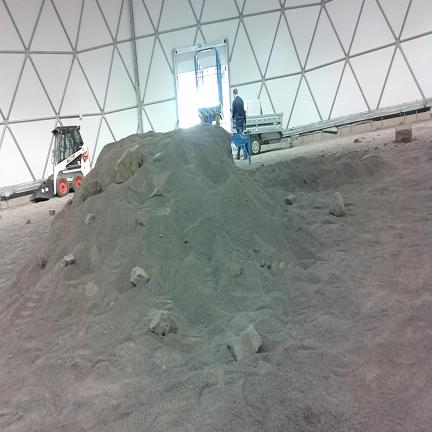Rock: (228, 325, 261, 361), (115, 146, 141, 184), (150, 310, 178, 336), (81, 180, 102, 202), (329, 192, 344, 216), (131, 267, 149, 286), (396, 125, 412, 143), (38, 251, 48, 270), (304, 171, 318, 184), (230, 263, 241, 278), (137, 212, 147, 226), (285, 194, 295, 206), (150, 188, 162, 198), (64, 254, 74, 265), (85, 214, 94, 225), (153, 153, 164, 162), (260, 259, 266, 268), (253, 246, 260, 253), (65, 199, 72, 206), (279, 261, 285, 269), (354, 138, 362, 143), (49, 209, 55, 215), (267, 263, 271, 269), (26, 219, 30, 224), (361, 136, 366, 139), (375, 146, 378, 150), (9, 355, 12, 359), (384, 143, 386, 146), (0, 215, 1, 219)
